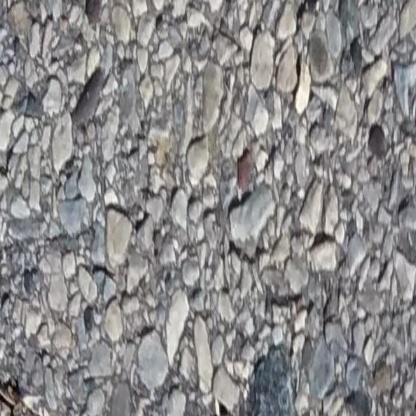Cracks: (0, 351, 64, 416)
